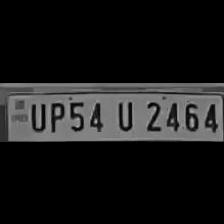2: (140, 98, 162, 132)
4: (85, 97, 107, 130), (200, 99, 220, 131), (162, 97, 180, 130)
5: (66, 97, 86, 131)
6: (180, 99, 200, 131)
P: (46, 98, 64, 132)
U: (111, 97, 137, 131), (26, 99, 46, 131)
